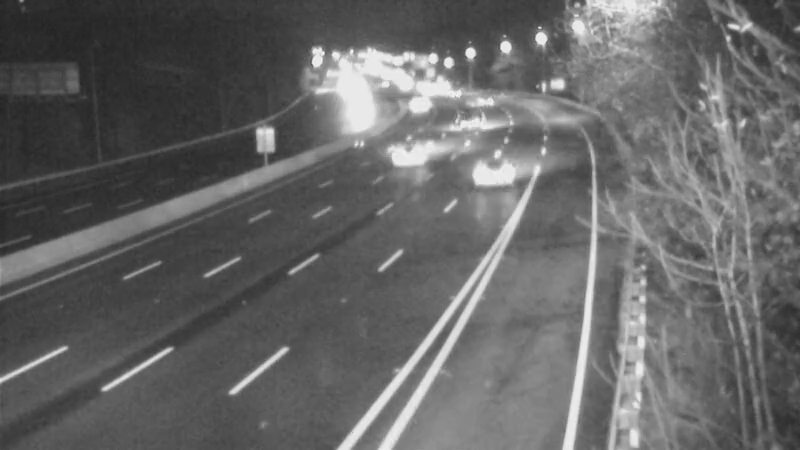vehicle: (375, 116, 455, 196), (451, 131, 531, 211), (429, 66, 479, 116), (393, 78, 443, 128), (455, 79, 505, 129), (444, 97, 494, 147), (330, 92, 380, 142)
